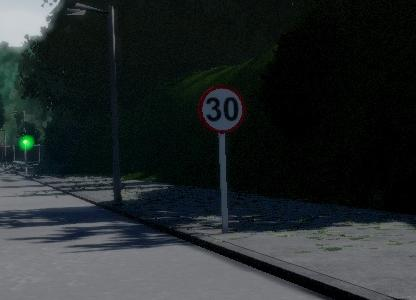Speed_30: (195, 83, 247, 137)
